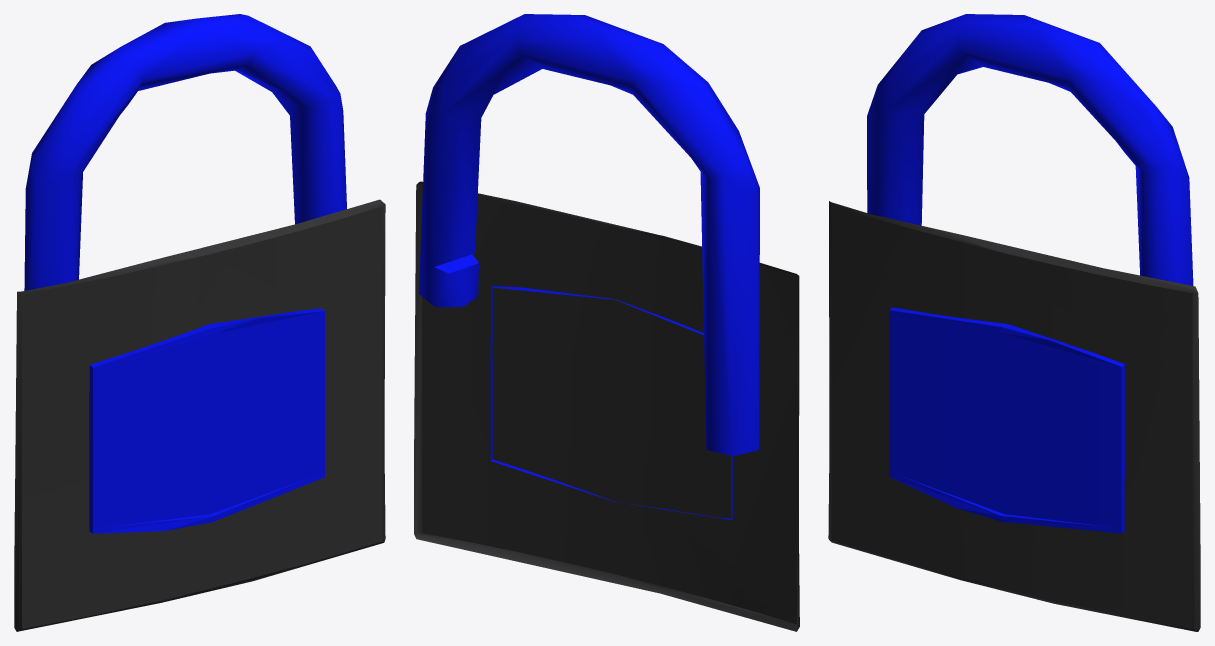
Rendered from LockLowPoly-Anim2.FBX.
3 renders of one model, left to right at view 1: azimuth 30°, elevation 25°; view 2: azimuth 150°, elevation 25°; view 3: azimuth 330°, elevation 25°, orthographic. The views are drawn at different scales.
Visible parts, largest first — view 1: Box01, Rectangle03; view 2: Box01, Rectangle03; view 3: Box01, Rectangle03.
Part boxes in pixels (box(x1,y1,x2,y2)): Box01: box(14, 199, 385, 631); Rectangle03: box(24, 14, 346, 290); Box01: box(414, 181, 799, 631); Rectangle03: box(419, 14, 759, 456); Box01: box(828, 201, 1200, 631); Rectangle03: box(867, 14, 1193, 285).
Size of the model in its own units: 1.64 by 0.3263 by 2.35.
